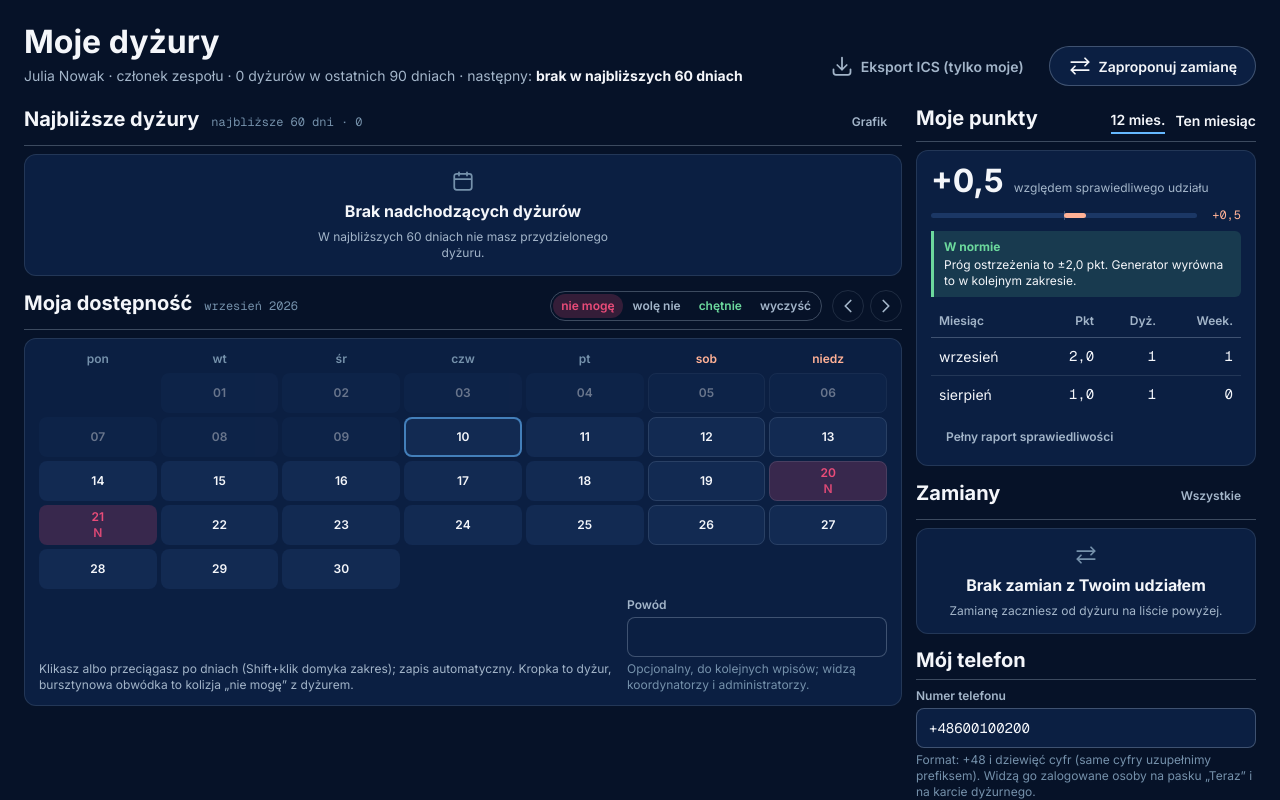
Scenario: MineScreen availability calendar › paints an entry on the calendar and clears it around the painted day
This screenshot has width=1280, height=800.
Expected: the cell named "niedz 20-09-2026, Nie mogę, powód: Wyjazd" is shown, [769,461,887,501]
Click the radio button labelled "wyczyść" at (785, 306), box [752,294,819,318]
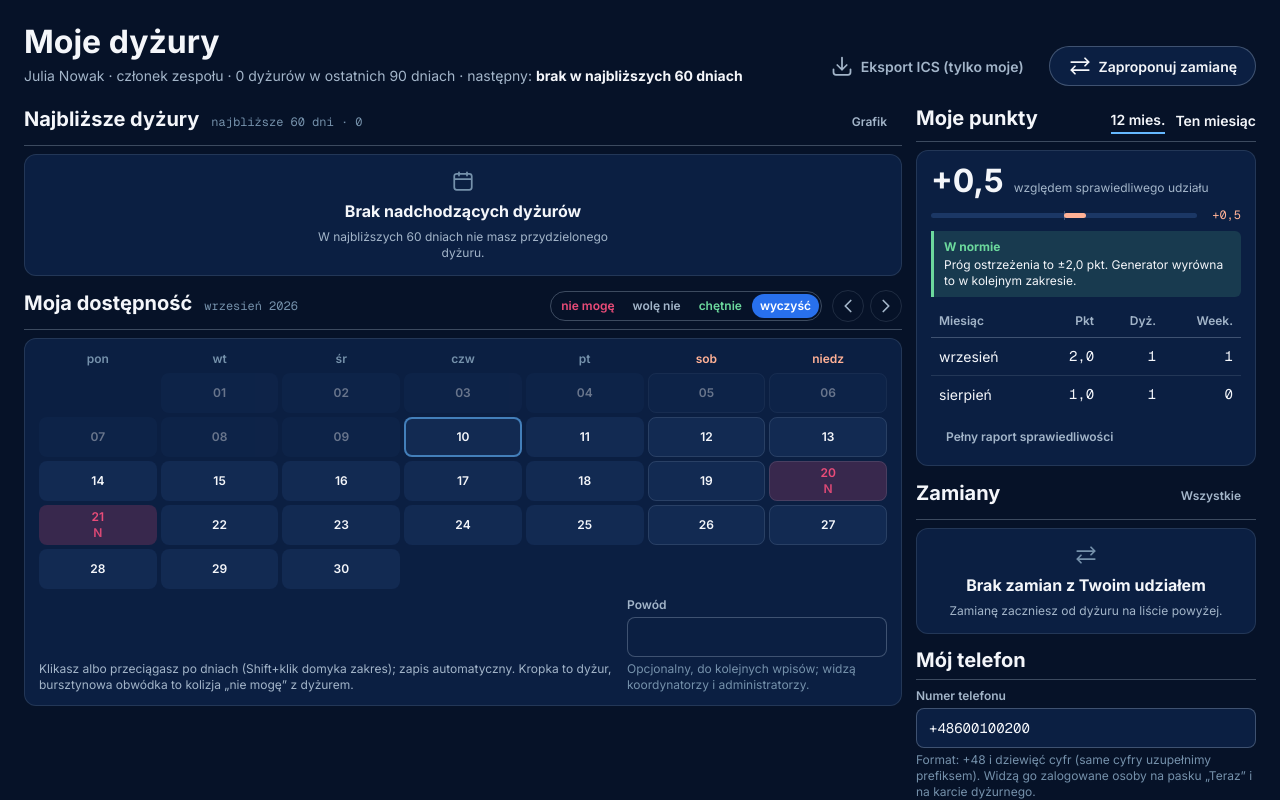
Click the cell named "niedz 20-09-2026" at (828, 481), box [769,461,887,501]
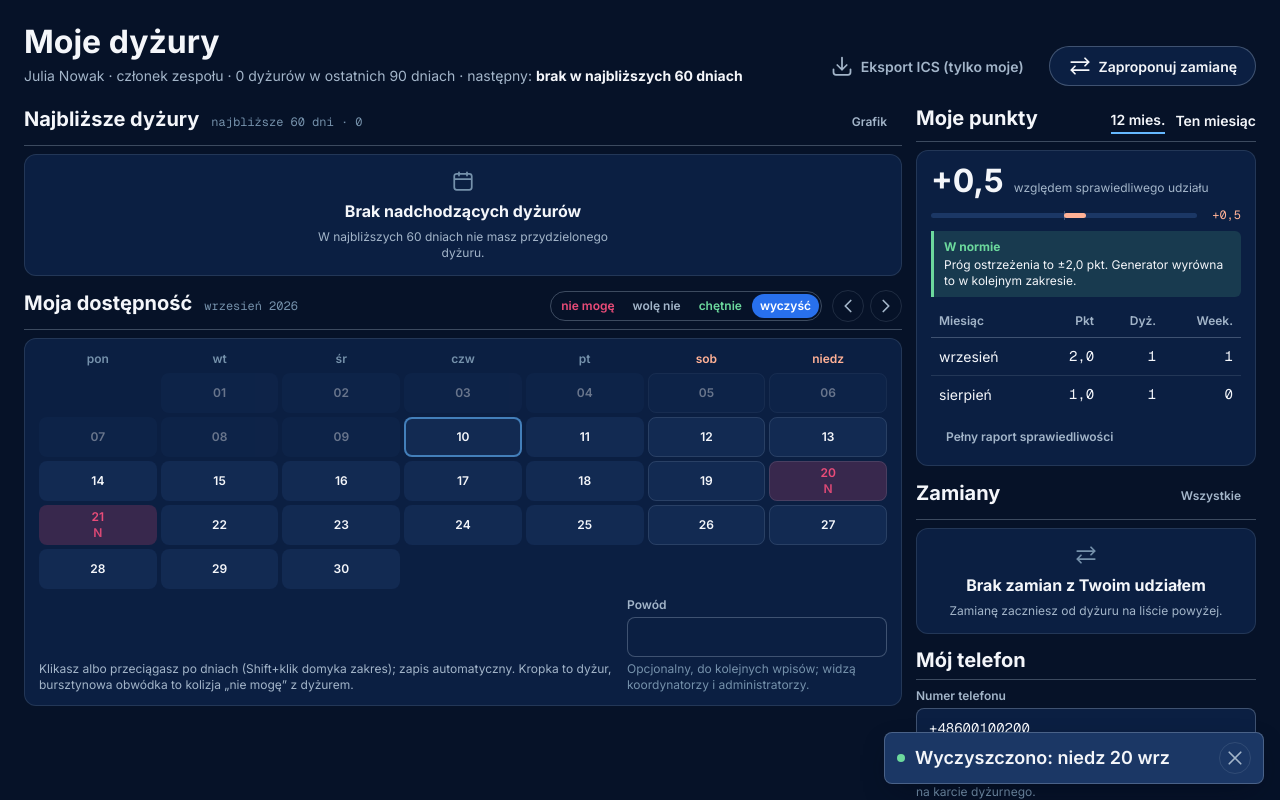
Result: the heading "Wyczyszczono: niedz 20 wrz" is shown at [915,750,1209,766]
